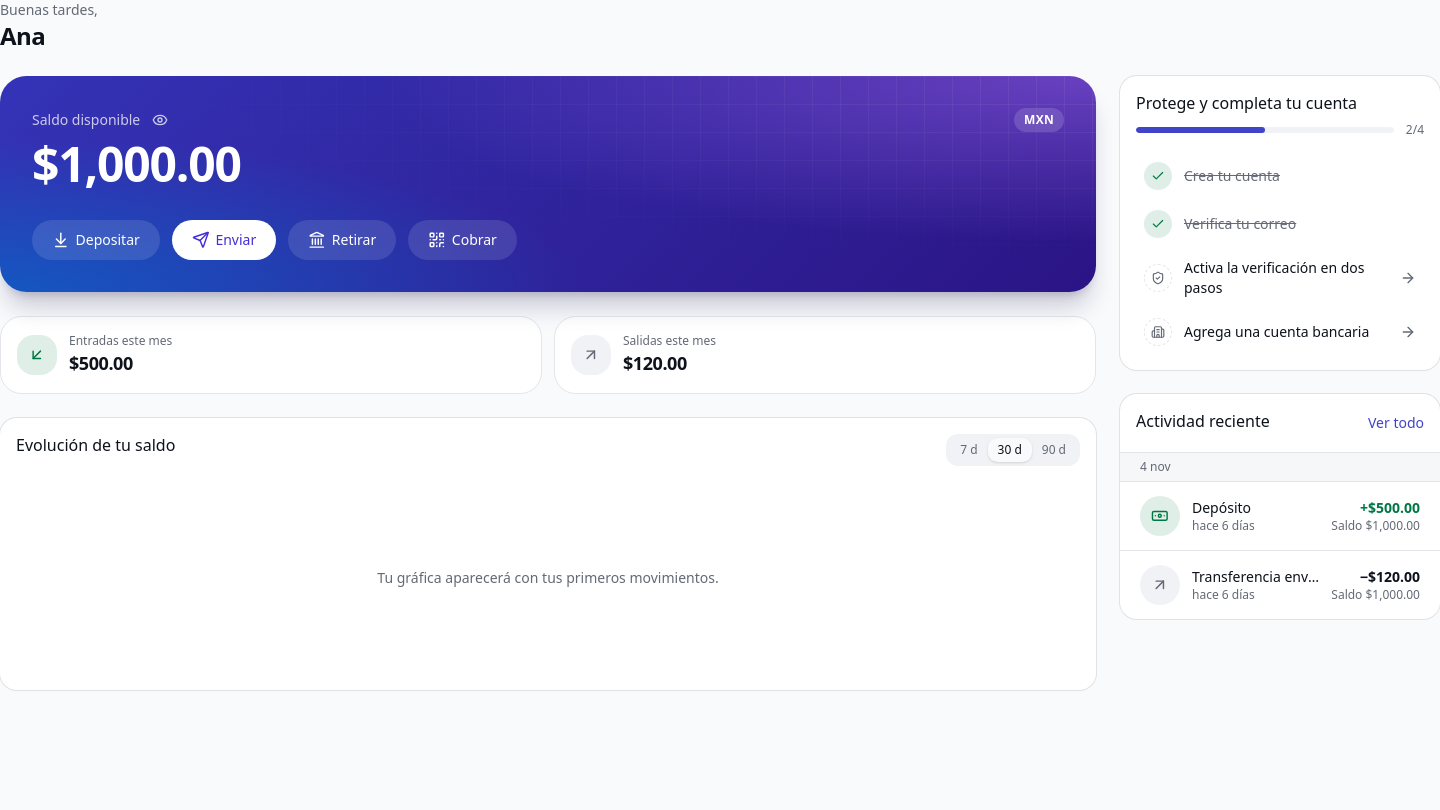
Test: DashboardPage › opens the send dialog from the balance card
Check: the text "Depósito" is shown, box x1=1192 y1=498 x2=1251 y2=517
Click the button "Enviar": (224, 240) x1=172 y1=220 x2=276 y2=260
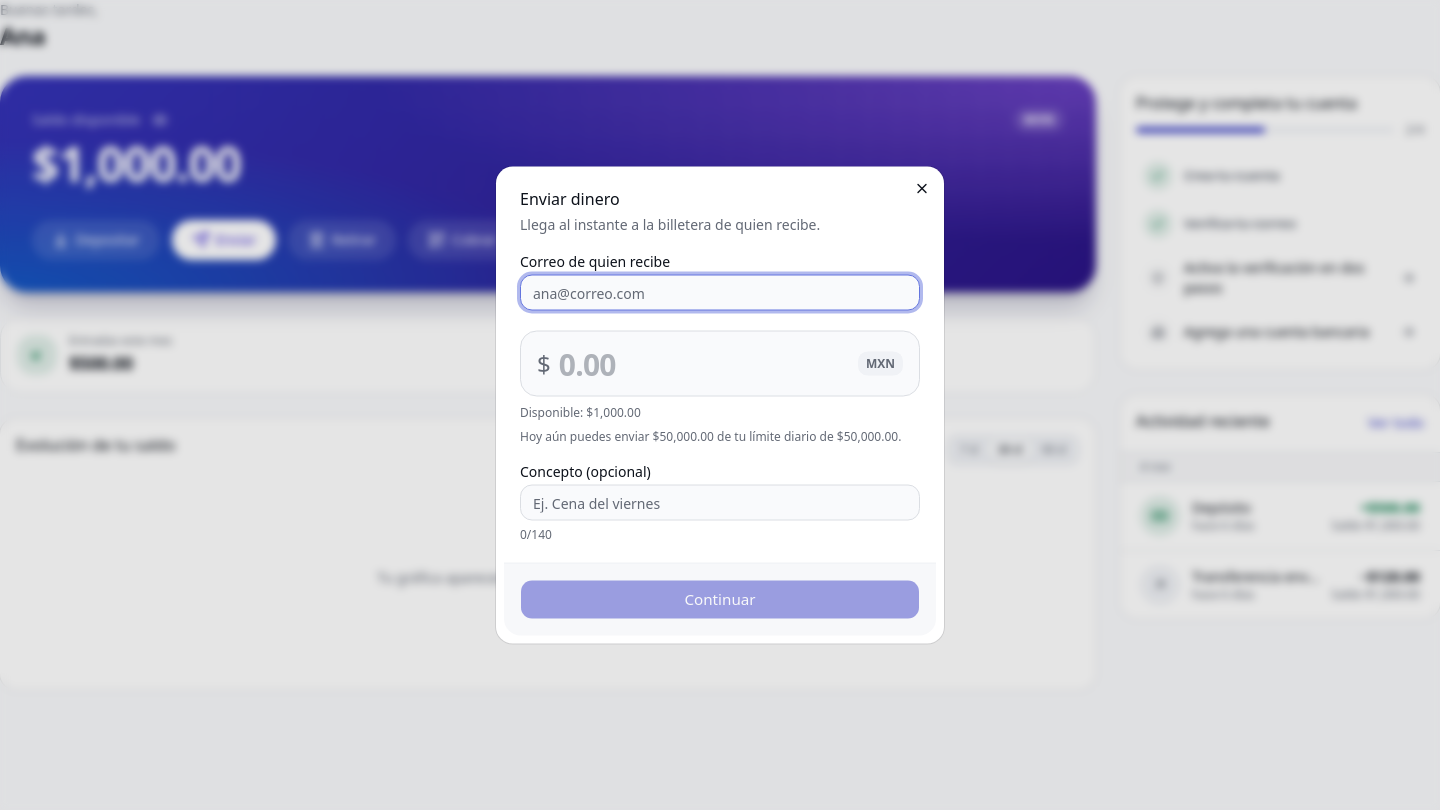
Check: the dialog shows "Enviar dinero", box x1=520 y1=188 x2=620 y2=210
